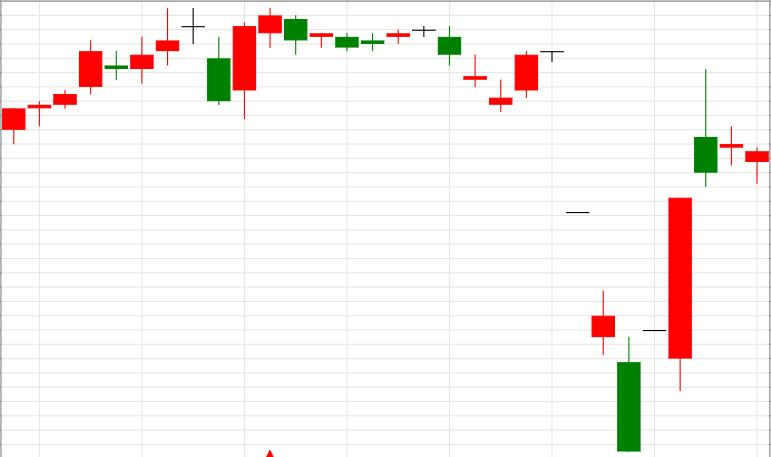shooting_star_fall: (618, 70, 717, 452)
